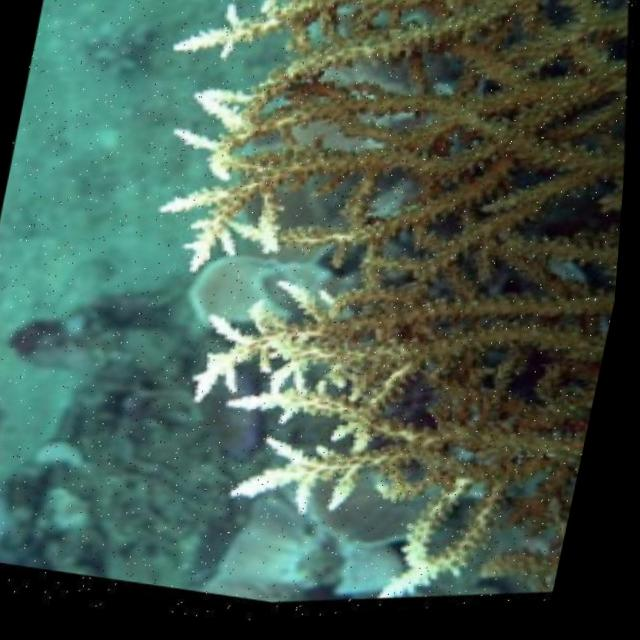Bleached Coral: (31, 0, 631, 636)
